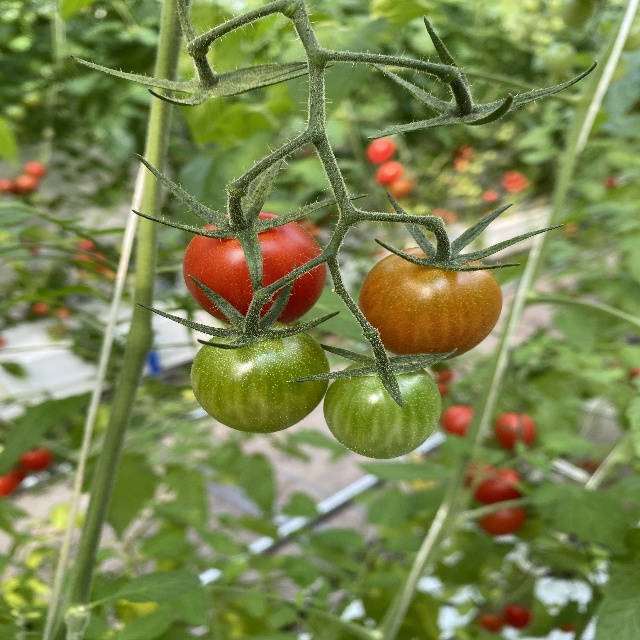l_fully_ripened: (182, 209, 329, 326)
l_green: (189, 322, 330, 434), (322, 356, 443, 460)
l_half_ripened: (358, 247, 502, 360)
